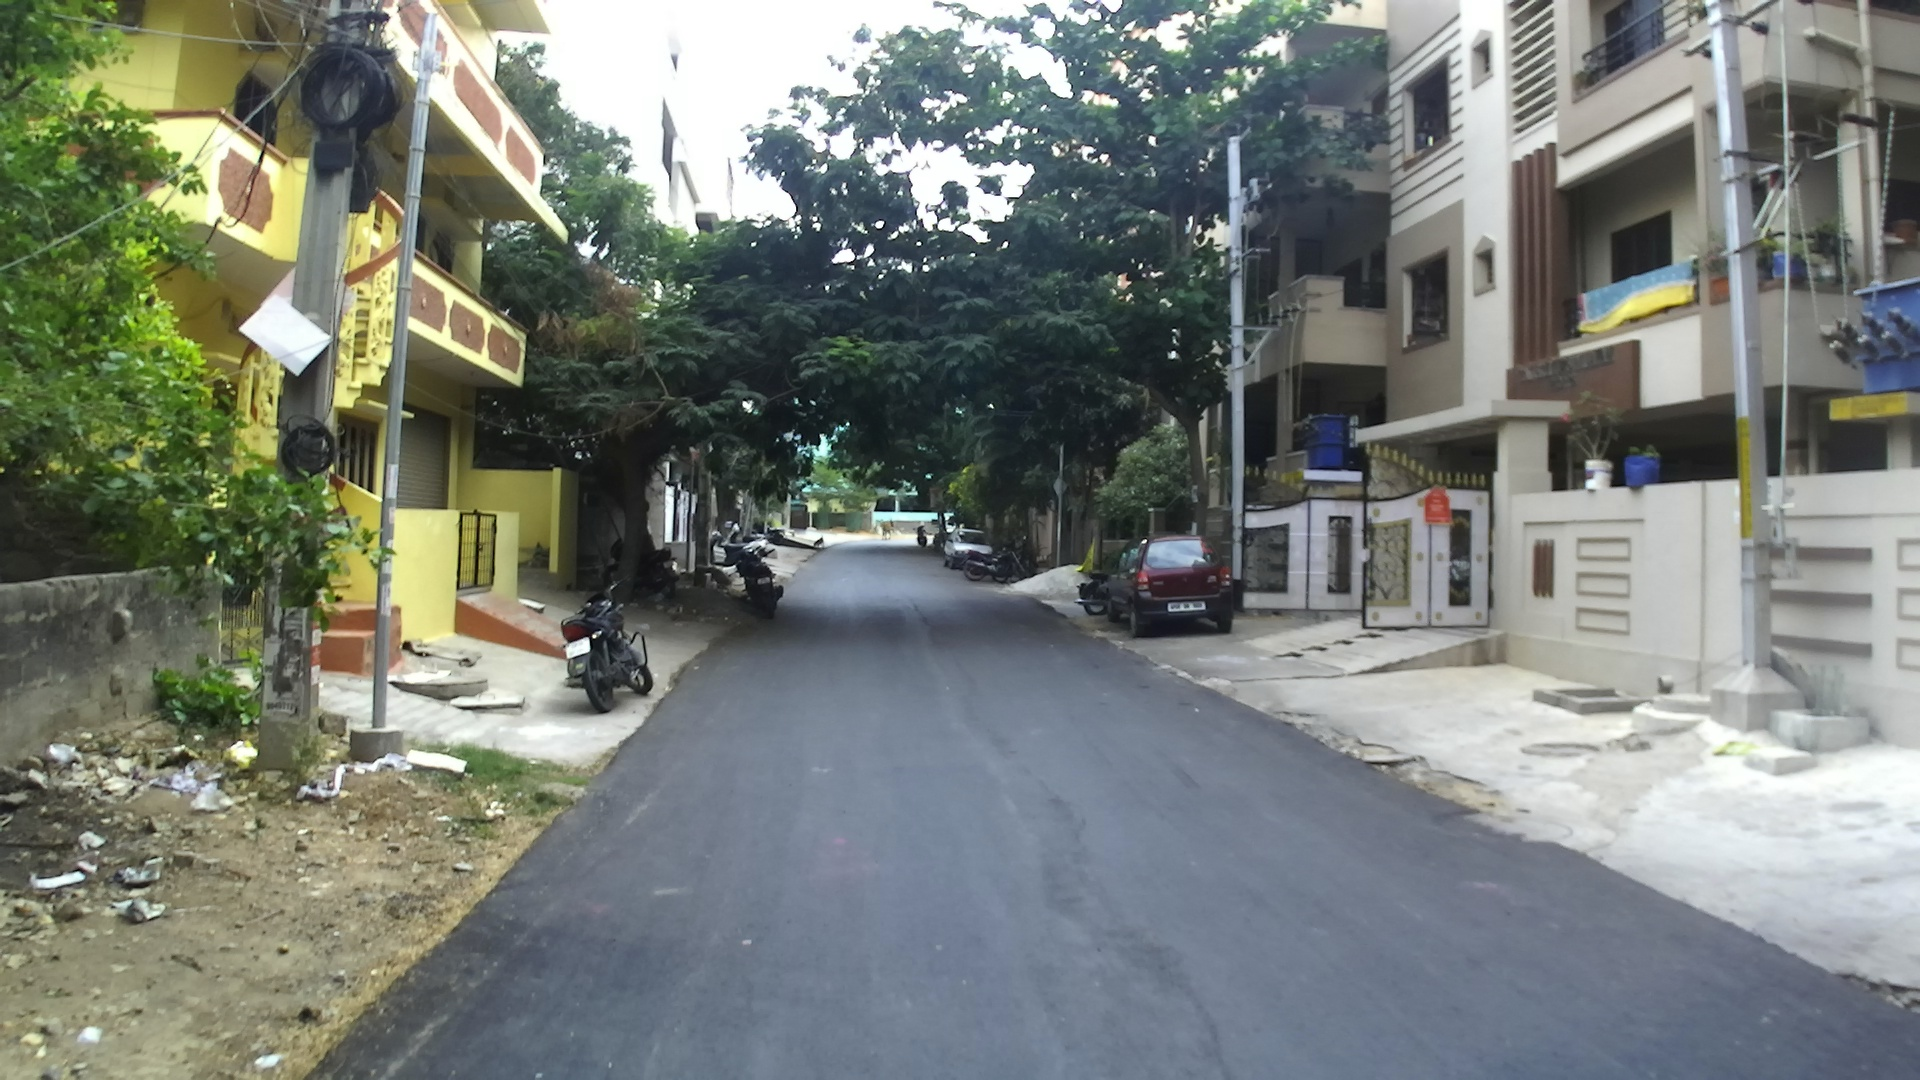vehicle: (1100, 535, 1244, 636), (562, 589, 654, 709), (944, 529, 1000, 578)
